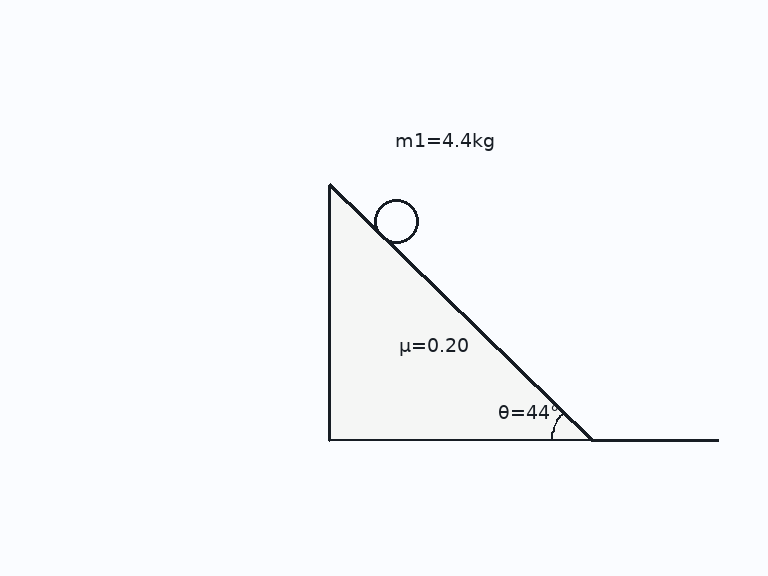ball: (372, 197, 420, 245)
ramp: (327, 184, 594, 442)
